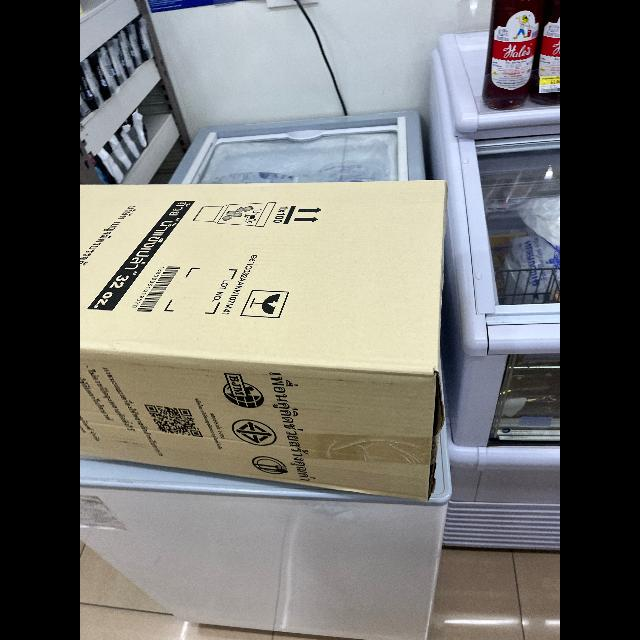cardboard_box: (80, 176, 470, 502)
